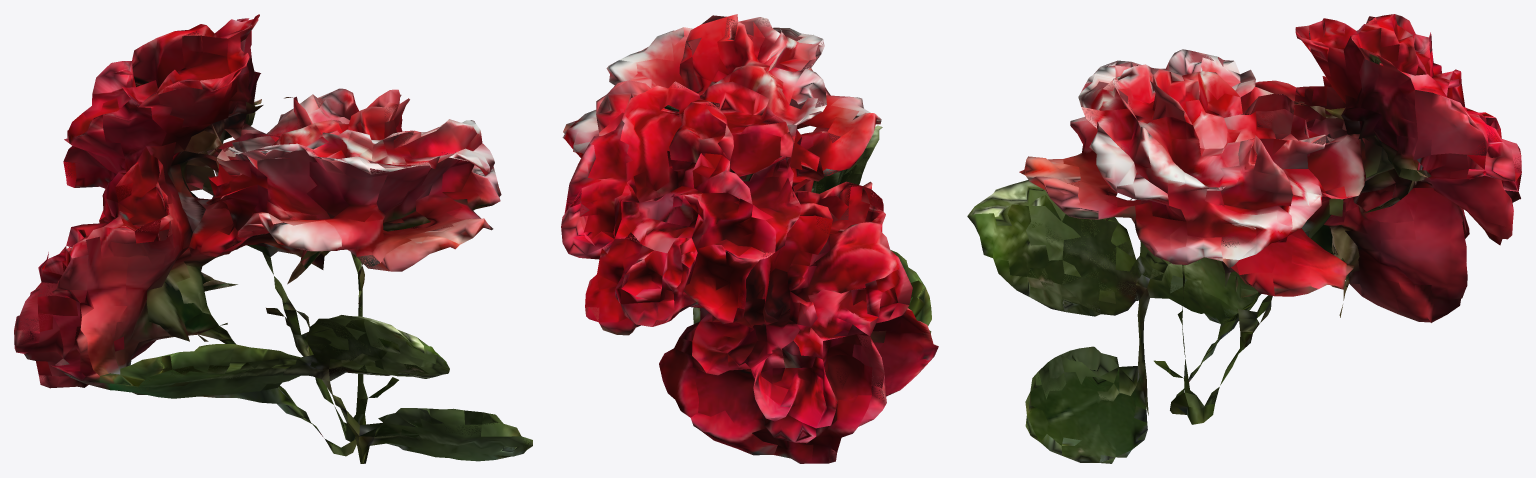
The picture shows the model from 3 angles, left to right: view 1: azimuth 30°, elevation 25°; view 2: azimuth 150°, elevation 25°; view 3: azimuth 270°, elevation 25°; orthographic projection. The views are drawn at different scales.
Parts seen in each view (by area): view 1: 010b9ece; view 2: 010b9ece; view 3: 010b9ece.
Part boxes in pixels (x1=…): 010b9ece: x1=14, y1=14, x2=532, y2=463; 010b9ece: x1=561, y1=14, x2=938, y2=463; 010b9ece: x1=967, y1=14, x2=1521, y2=463.
Size of the model in its own units: 0.1283 by 0.1127 by 0.151.
Materials: 1 (1 with a texture image).
